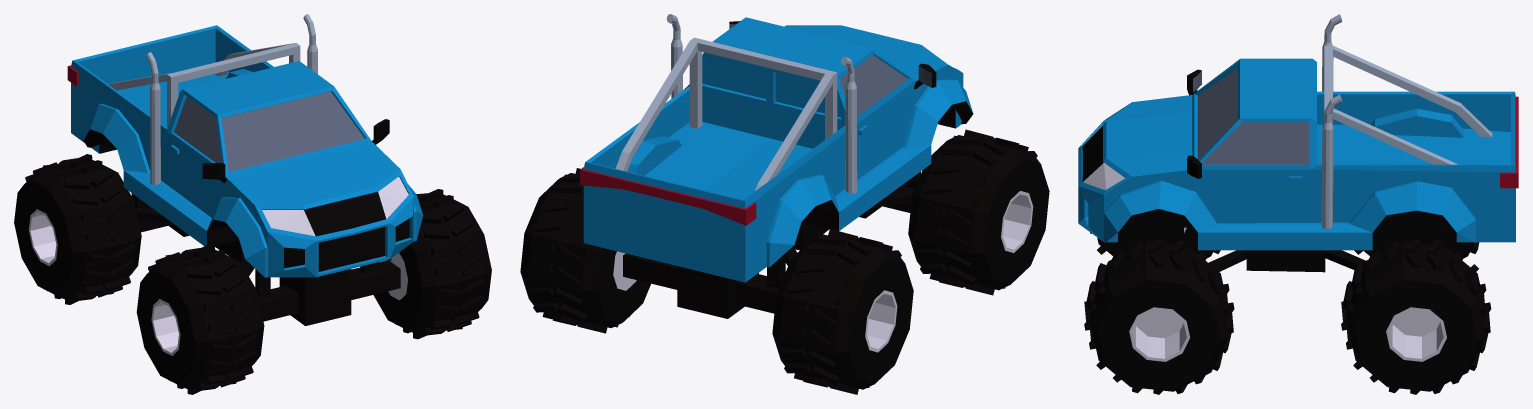
File: mod-monster-truck.gltf
The picture shows the model from 3 angles, left to right: view 1: azimuth 30°, elevation 25°; view 2: azimuth 150°, elevation 25°; view 3: azimuth 270°, elevation 25°; orthographic projection. The views are drawn at different scales.
Visible parts, largest first — view 1: Monster Truck, Monster Truck wheel front left; view 2: Monster Truck, Monster Truck wheel front left; view 3: Monster Truck, Monster Truck wheel front left.
Part boxes in pixels (<box>): Monster Truck: <box>67,14,423,325</box>; Monster Truck wheel front left: <box>14,154,491,394</box>; Monster Truck: <box>580,14,973,318</box>; Monster Truck wheel front left: <box>520,84,1049,394</box>; Monster Truck: <box>1078,14,1518,272</box>; Monster Truck wheel front left: <box>1084,227,1491,394</box>.
Size of the model in its own units: 3.93 by 3.28 by 4.83.
